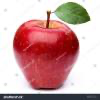Apple leaf: (55, 1, 92, 26)
